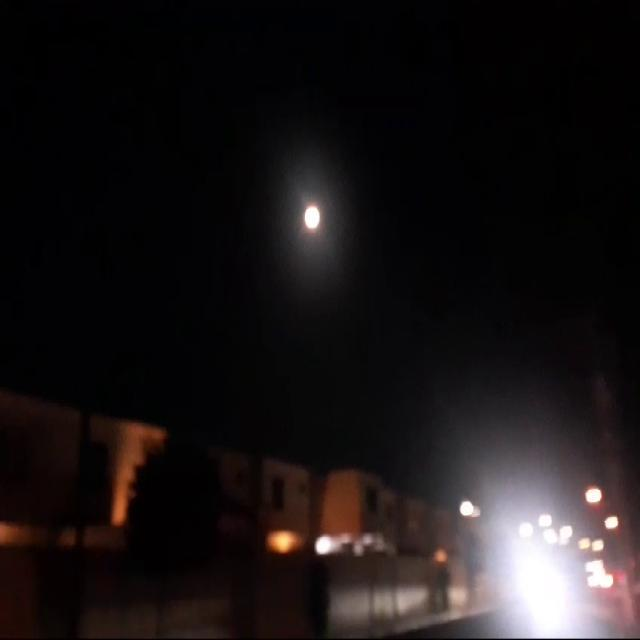moon: (303, 200, 322, 234)
